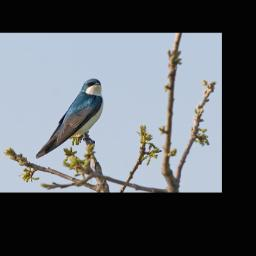Swallow: (32, 75, 107, 160)
